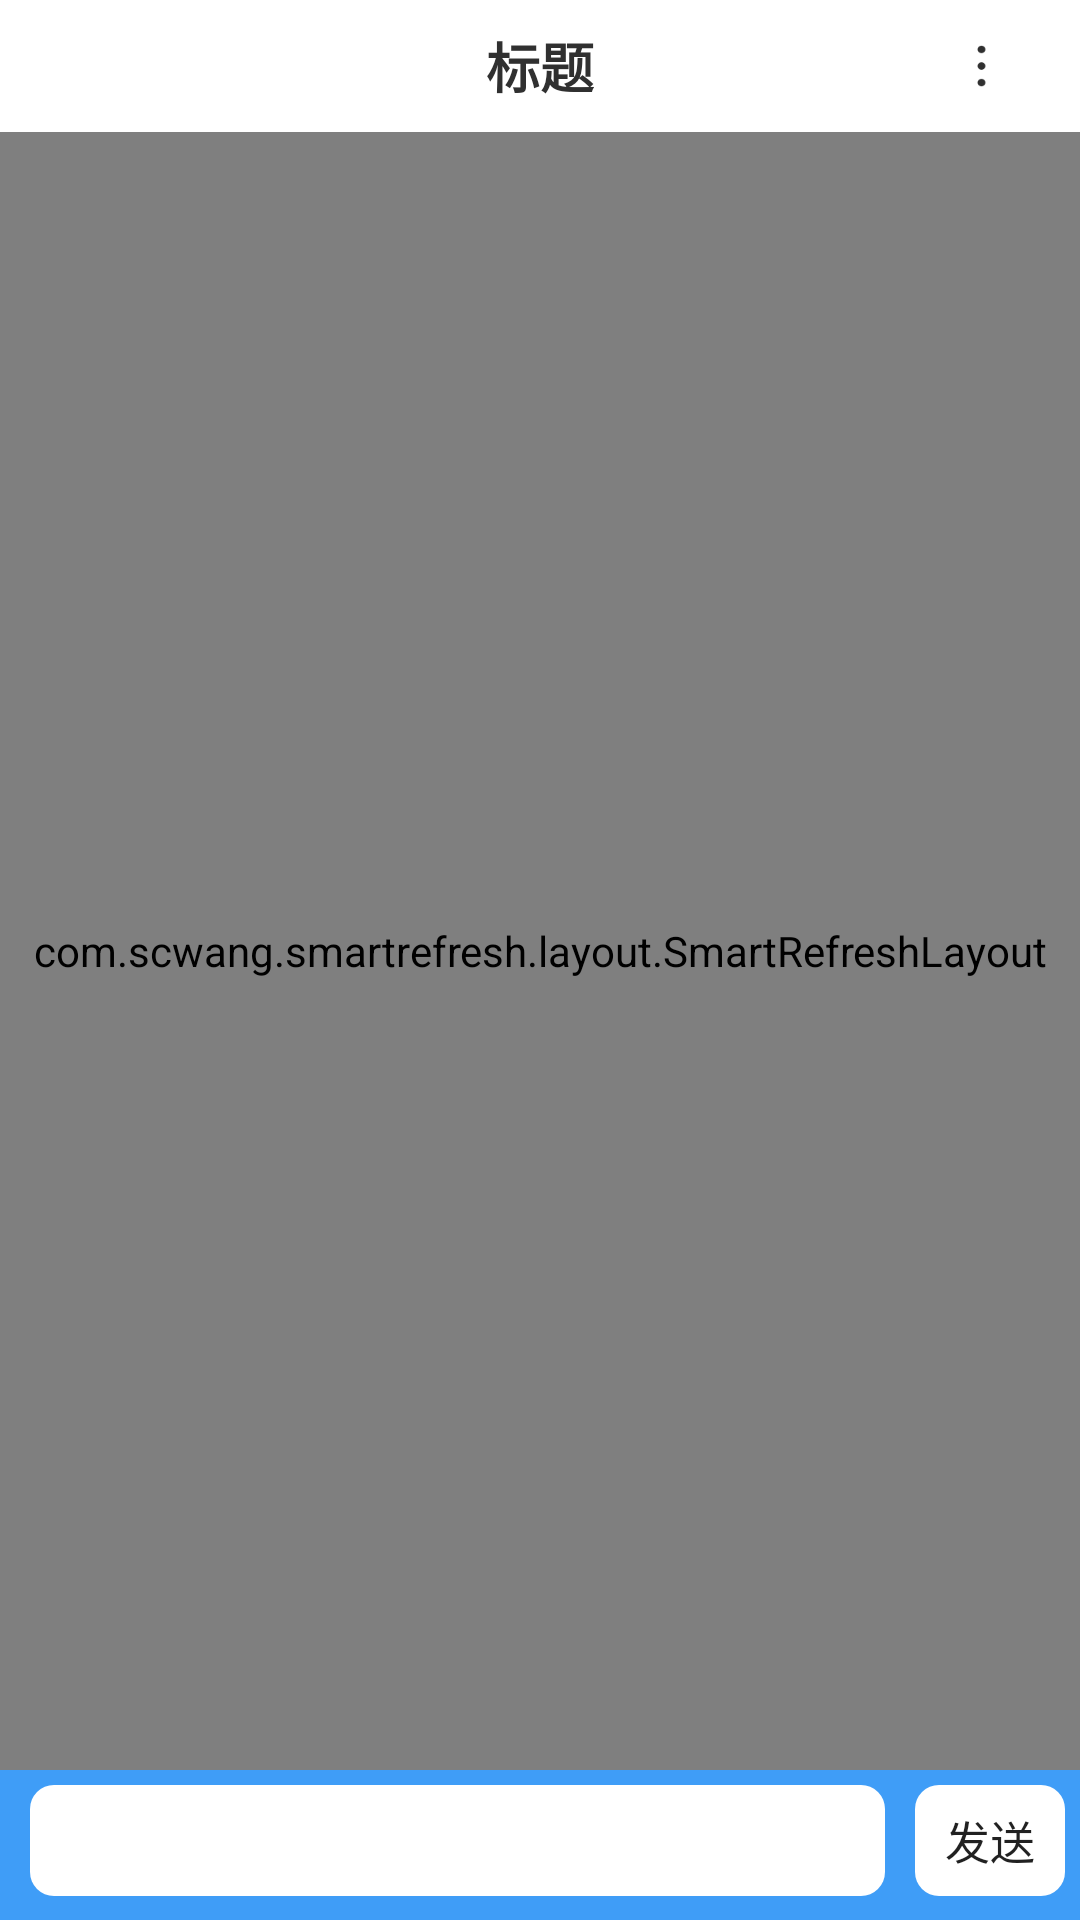

Icon click points for this 1080×1920 phone screenshot, format point (x, y):
more: point (981, 66)
